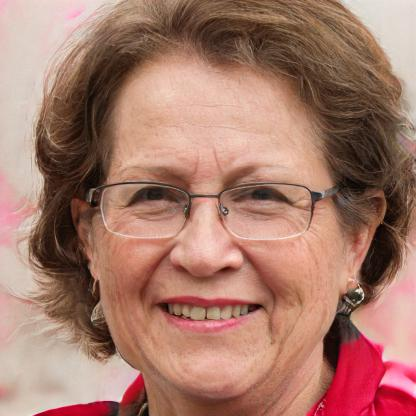glasses: (87, 177, 338, 248)
